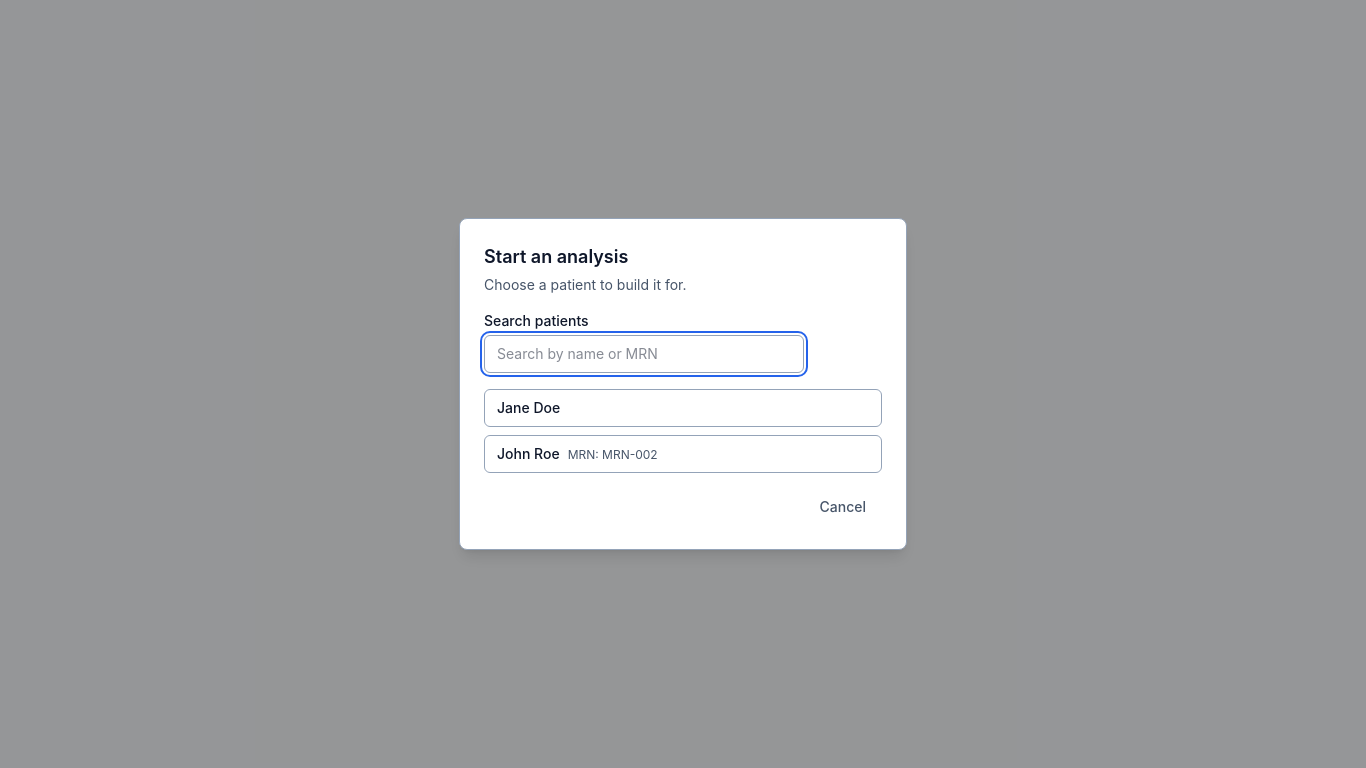
Scenario: StartAnalysisDialog › filters the patient list as the user searches, reusing the same search everywhere else uses
This screenshot has width=1366, height=768.
Type "John" into the search field labelled "Search patients" at x=644, y=354, box [484,335,804,373]
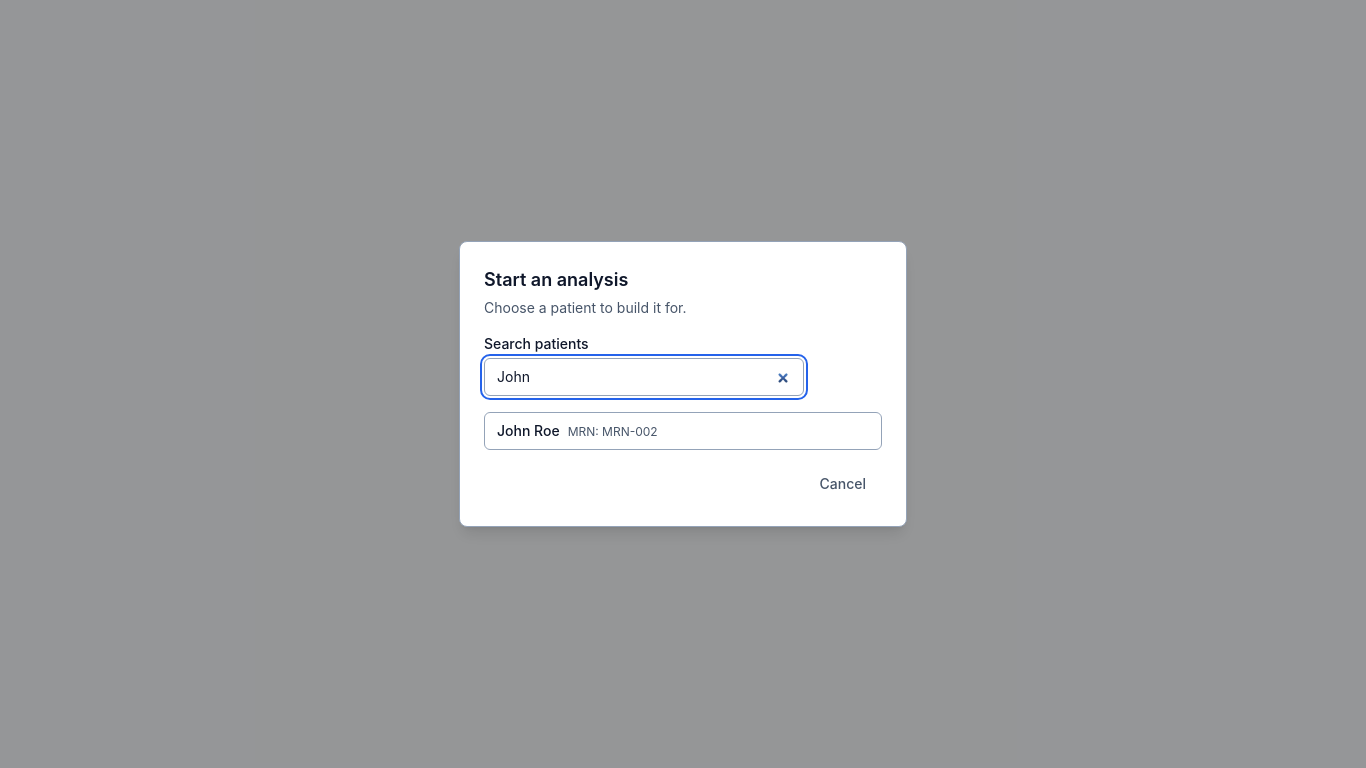
Expected: the button "John Roe" is shown, [484,412,882,450]
Expected: the button "Jane Doe" is gone
